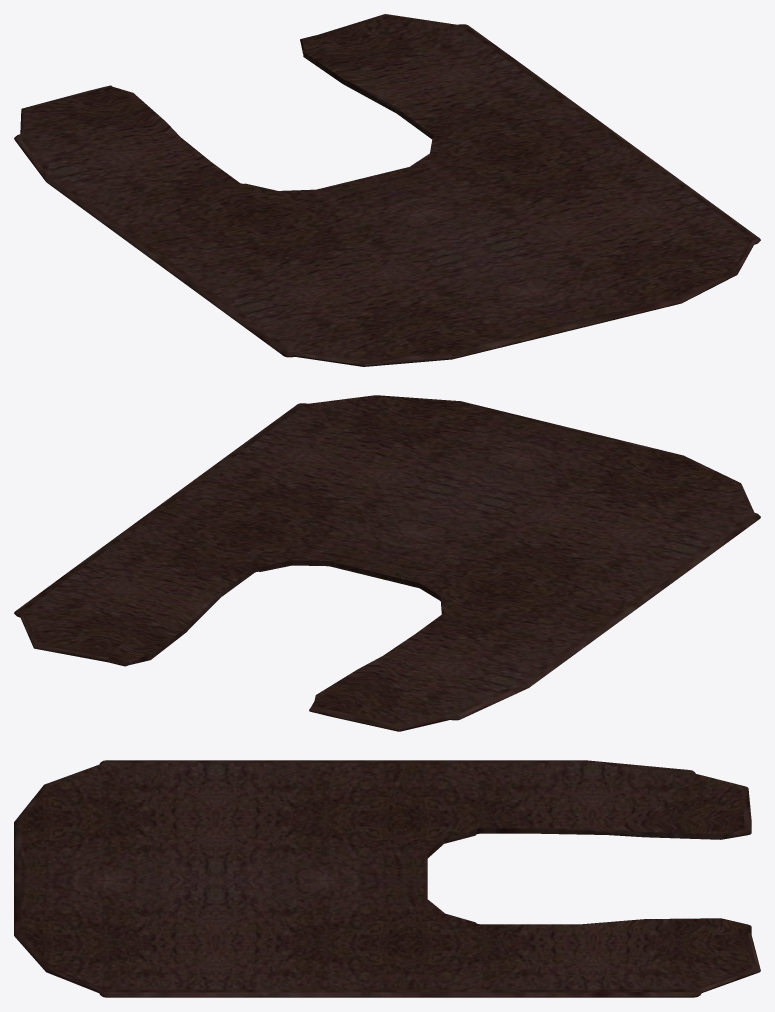
File: bathroom_rug-transformed.glb
The picture shows the model from 3 angles, top to bottom: view 1: azimuth 30°, elevation 25°; view 2: azimuth 150°, elevation 25°; view 3: azimuth 270°, elevation 25°; orthographic projection. The views are drawn at different scales.
Visible parts, largest first — view 1: ChamferBox002_01 - Default_0; view 2: ChamferBox002_01 - Default_0; view 3: ChamferBox002_01 - Default_0.
Boxes of the visible parts, <box> form: ChamferBox002_01 - Default_0: <box>14,14,760,366</box>; ChamferBox002_01 - Default_0: <box>14,395,760,731</box>; ChamferBox002_01 - Default_0: <box>14,760,760,997</box>.
Size of the model in its own units: 0.635 by 0.00686 by 0.8499.
Materials: 1 (1 with a texture image).
